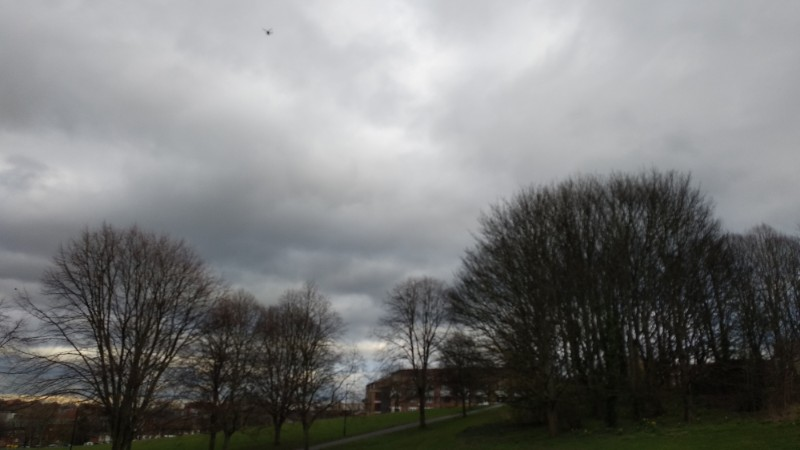drone: (263, 27, 273, 37)
